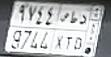4: (40, 6, 54, 52)
9: (12, 4, 25, 52)
D: (75, 15, 89, 50)
